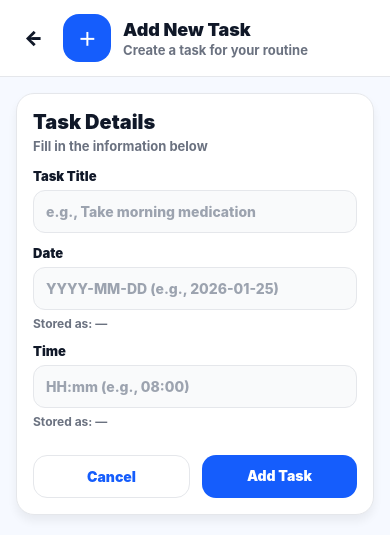
AddTaskScreen (app/add-task.tsx) › updates the 'Stored as' previews when date/time inputs change
Type "2026-01-25" into the field with placeholder "YYYY-MM-DD (e.g., 2026-01-25)" at (195, 288), box left=33, top=267, right=357, bottom=310
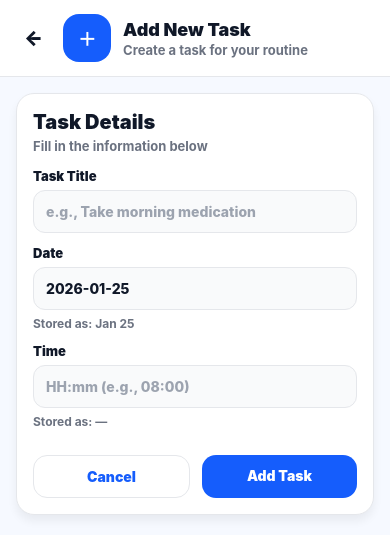
Type "08:00" into the field with placeholder "HH:mm (e.g., 08:00)" at (195, 386), box left=33, top=365, right=357, bottom=408
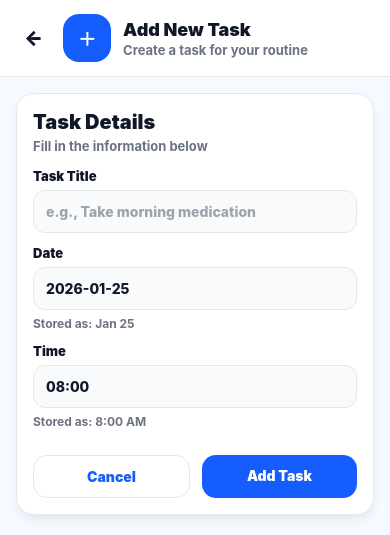
expect the text "Stored as: Jan 25" is shown: met, box left=33, top=316, right=134, bottom=331
expect the text "Stored as: 8:00 AM" is shown: met, box left=33, top=414, right=146, bottom=429
